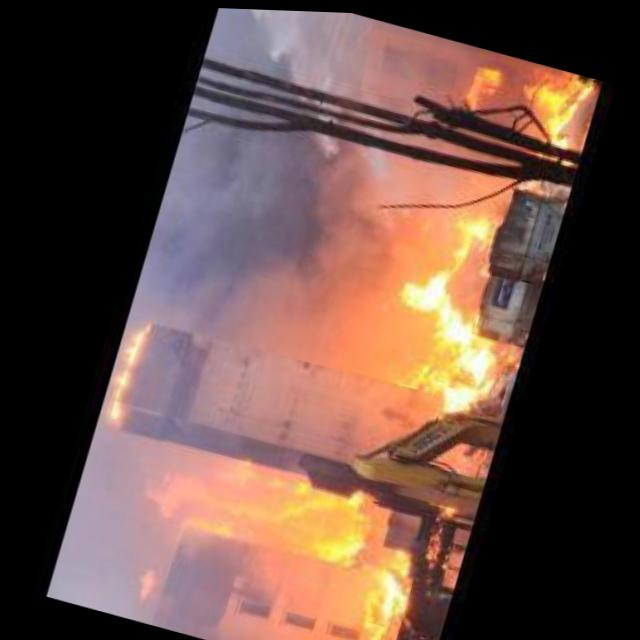Fire: (371, 201, 549, 435), (103, 303, 159, 433), (504, 61, 579, 142), (447, 51, 506, 119)
